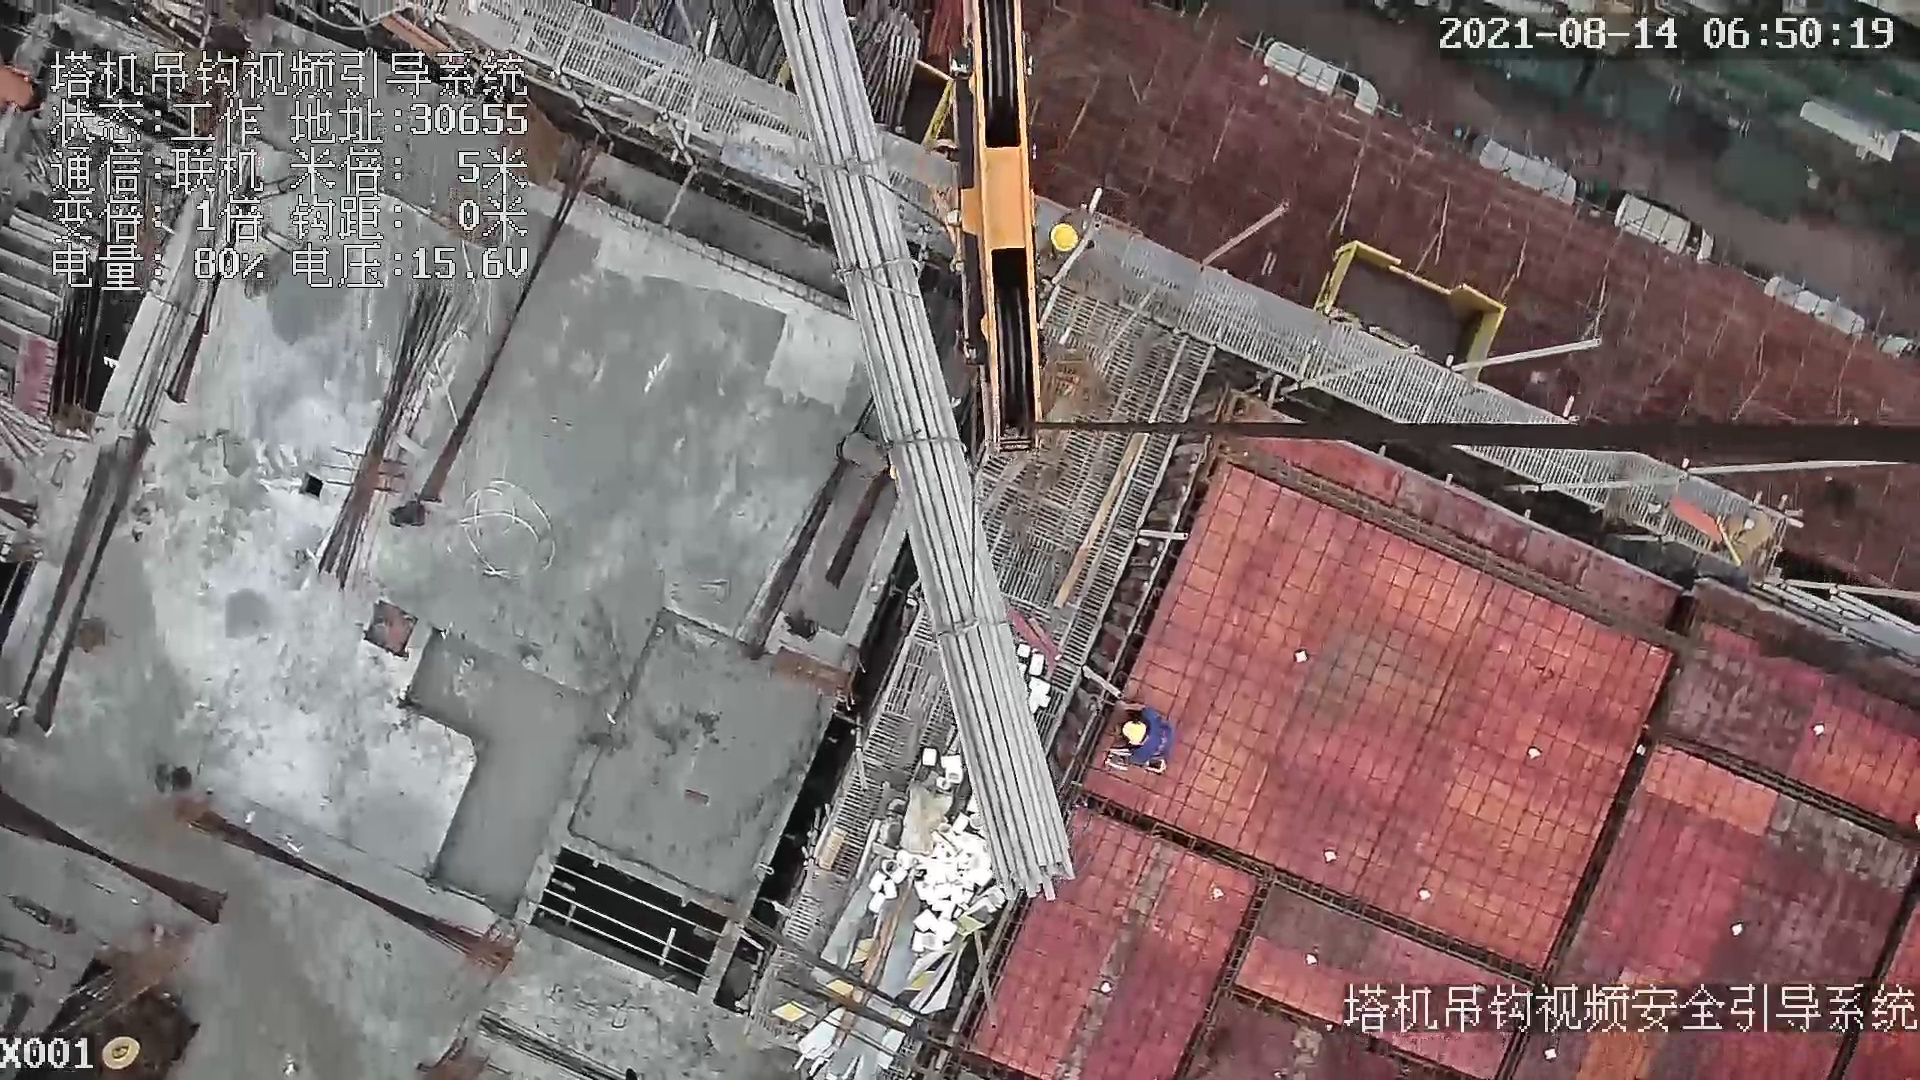helmet: (1117, 703, 1165, 752), (1051, 216, 1080, 255)
hook: (927, 1, 1054, 460)
person: (1106, 696, 1179, 780), (1054, 206, 1106, 282)
